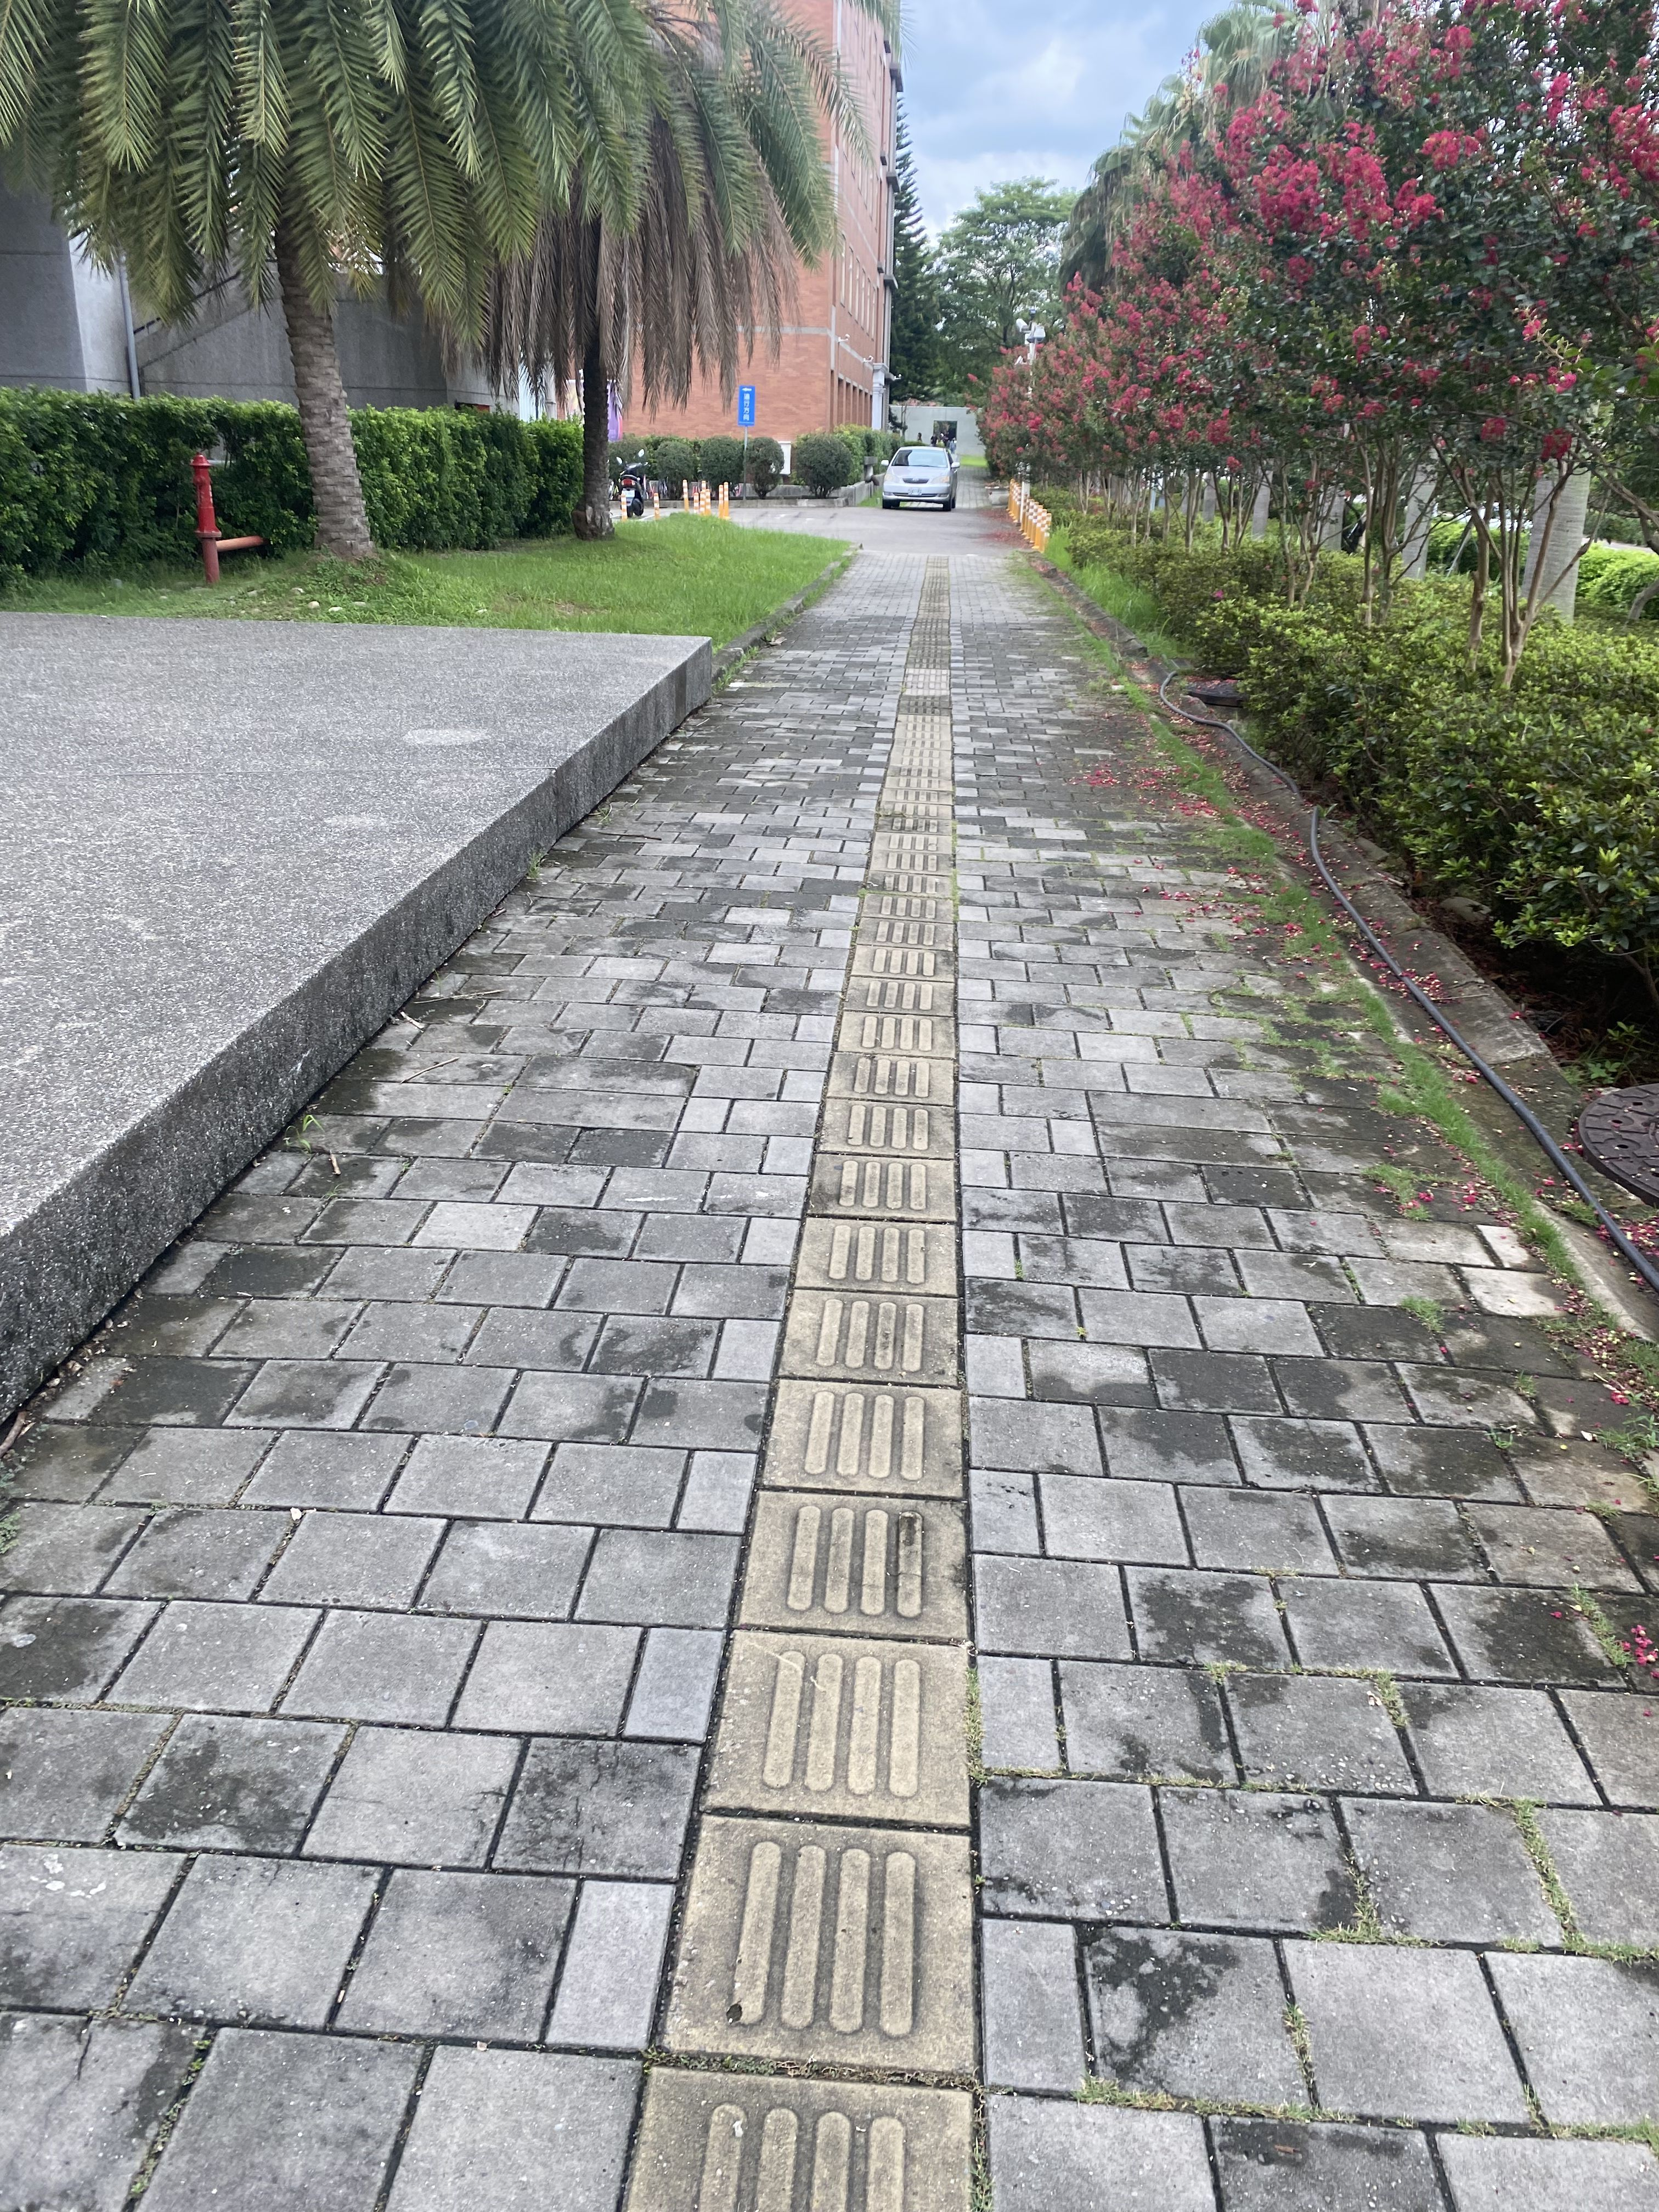0: (10, 791, 1659, 2212)
sidewalk: (647, 545, 1344, 1552)
